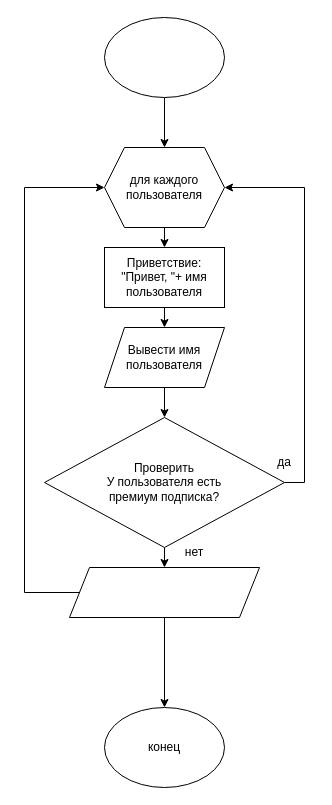
Image size: 332x805. Some labels were removed from this diagram. The centre of each missing label's shape, as x and y in pixels:
вывести рекламу: point 164,592
Начало: point 164,57
